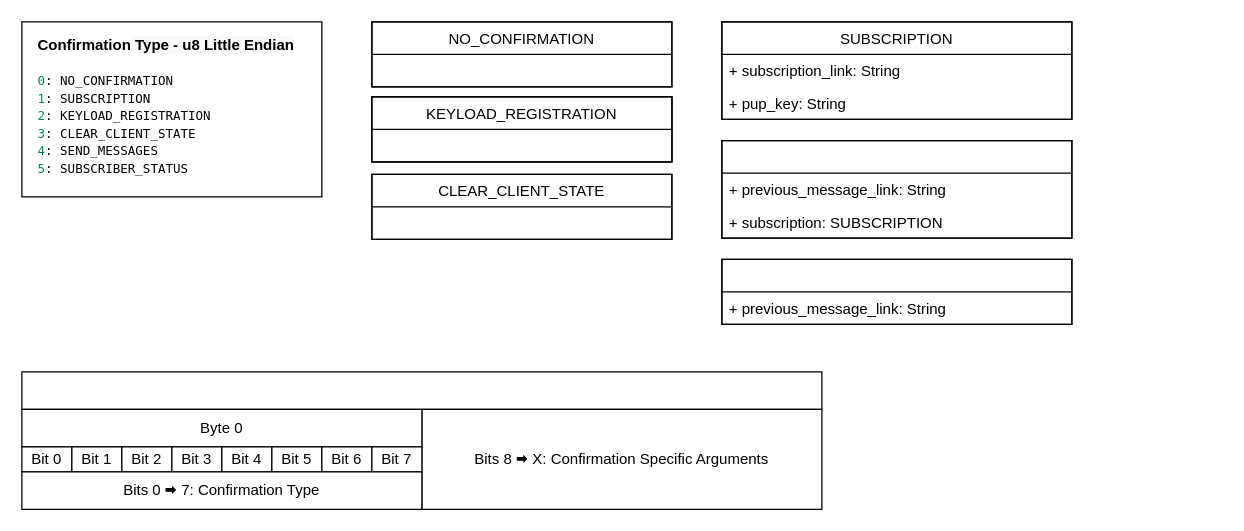
Some shapes in this 1244 by 531 pixel diagram are drawn without their labels. Here are the shapes that lost their labels. From the top down, the box of each, then its label:
(721, 139, 1072, 238): SUBSCRIBER_STATUS
(721, 258, 1072, 324): SEND_MESSAGES
(21, 371, 822, 409): Confirmation
